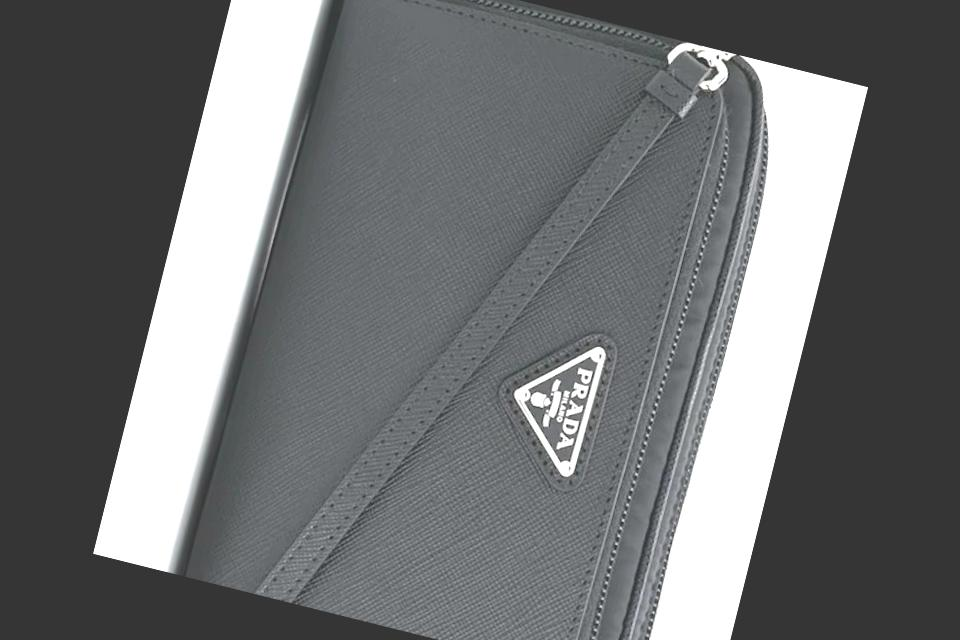PRADA: (495, 329, 608, 478)
